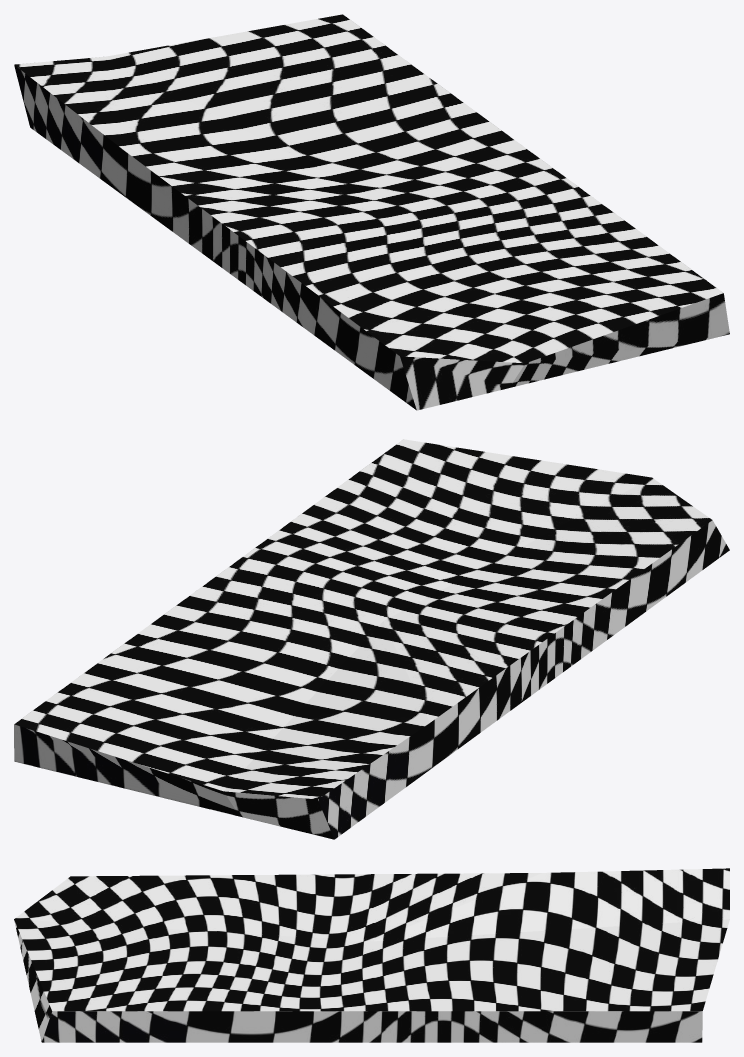
Rendered from platform.fbx.
The picture shows the model from 3 angles, top to bottom: view 1: azimuth 30°, elevation 25°; view 2: azimuth 150°, elevation 25°; view 3: azimuth 270°, elevation 25°; orthographic projection. The views are drawn at different scales.
Visible parts, largest first — view 1: Cube; view 2: Cube; view 3: Cube.
Boxes of the visible parts, <box> form: Cube: <box>14,14,729,410</box>; Cube: <box>14,439,729,839</box>; Cube: <box>14,868,729,1042</box>.
Bounding box in the file's own units: 778 × 121 × 1804.
Materials: 1 (1 with a texture image).
